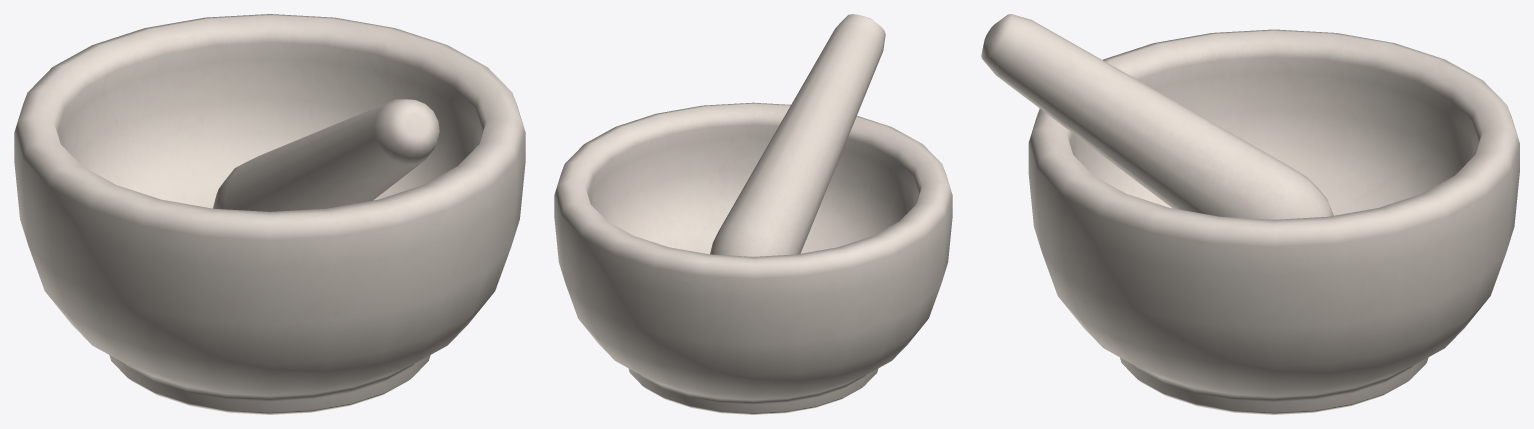
The model's file is SM_Mortar_01.fbx.
3 views of the same model, side by side, from view 1: azimuth 30°, elevation 25°; view 2: azimuth 150°, elevation 25°; view 3: azimuth 270°, elevation 25° (orthographic). The views are drawn at different scales.
Parts seen in each view (by area): view 1: SM_Mortar_01_LOD0; view 2: SM_Mortar_01_LOD0; view 3: SM_Mortar_01_LOD0.
Part boxes in pixels (left/top/right/bottom): SM_Mortar_01_LOD0: left=14, top=14, right=525, bottom=414; SM_Mortar_01_LOD0: left=554, top=14, right=952, bottom=414; SM_Mortar_01_LOD0: left=981, top=14, right=1519, bottom=414.
Bounding box in the file's own units: 15 × 16.45 × 11.23.
